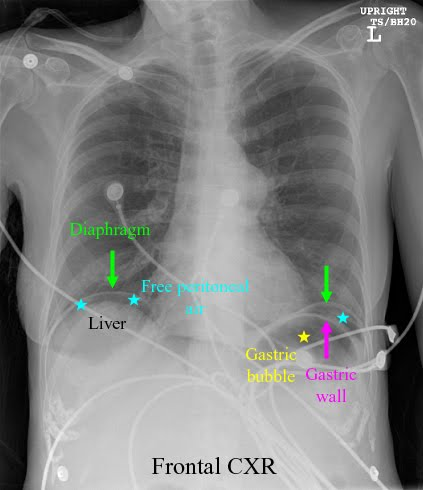telestration: (141, 278, 253, 317), (300, 365, 356, 403), (243, 346, 297, 385), (68, 220, 152, 240), (103, 248, 122, 287), (85, 316, 131, 330), (319, 262, 333, 305), (319, 320, 331, 359), (297, 328, 310, 343), (74, 298, 88, 311), (336, 312, 350, 322), (129, 293, 137, 306)
